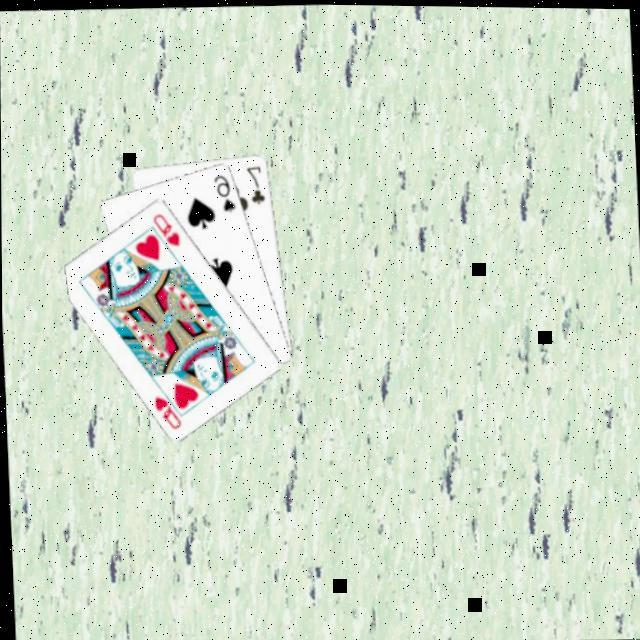6S: (210, 172, 238, 216)
7C: (242, 162, 266, 207)
QH: (148, 384, 184, 433), (148, 211, 181, 250)
